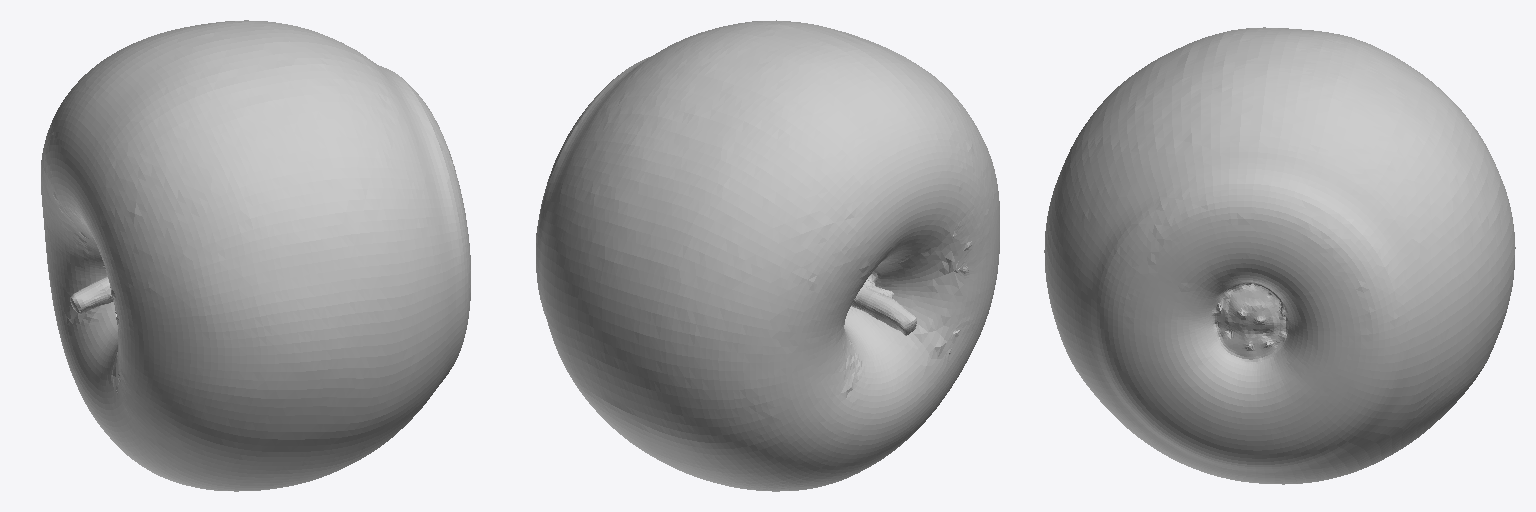
robot.urdf — single_object:
<?xml version="1.0" ?>
<robot name="single_object">
    <link name="base_link">
        <inertial>
            <origin xyz="0 0 0" rpy="0 0 0" />
            <mass value="1.0" />
            <inertia ixx="0.1" ixy="0" ixz="0" iyy="0.1" iyz="0" izz="0.1" />
        </inertial>
        <visual>
            <origin xyz="0 0 0" rpy="0 0 0" />
            <geometry>
                <mesh filename="visual/object_visual.obj" />
            </geometry>
            <material name="object_material">
                <color rgba="0.8 0.8 0.8 1.0" />
            </material>
        </visual>
        <collision name="collision_0">
            <origin xyz="0 0 0" rpy="0 0 0" />
            <geometry>
                <mesh filename="collision/object_0.obj" />
            </geometry>
        </collision>
        <collision name="collision_1">
            <origin xyz="0 0 0" rpy="0 0 0" />
            <geometry>
                <mesh filename="collision/object_1.obj" />
            </geometry>
        </collision>
        <collision name="collision_2">
            <origin xyz="0 0 0" rpy="0 0 0" />
            <geometry>
                <mesh filename="collision/object_2.obj" />
            </geometry>
        </collision>
        <collision name="collision_3">
            <origin xyz="0 0 0" rpy="0 0 0" />
            <geometry>
                <mesh filename="collision/object_3.obj" />
            </geometry>
        </collision>
        <collision name="collision_4">
            <origin xyz="0 0 0" rpy="0 0 0" />
            <geometry>
                <mesh filename="collision/object_4.obj" />
            </geometry>
        </collision>
        <collision name="collision_5">
            <origin xyz="0 0 0" rpy="0 0 0" />
            <geometry>
                <mesh filename="collision/object_5.obj" />
            </geometry>
        </collision>
        <collision name="collision_6">
            <origin xyz="0 0 0" rpy="0 0 0" />
            <geometry>
                <mesh filename="collision/object_6.obj" />
            </geometry>
        </collision>
        <collision name="collision_7">
            <origin xyz="0 0 0" rpy="0 0 0" />
            <geometry>
                <mesh filename="collision/object_7.obj" />
            </geometry>
        </collision>
        <collision name="collision_8">
            <origin xyz="0 0 0" rpy="0 0 0" />
            <geometry>
                <mesh filename="collision/object_8.obj" />
            </geometry>
        </collision>
        <collision name="collision_9">
            <origin xyz="0 0 0" rpy="0 0 0" />
            <geometry>
                <mesh filename="collision/object_9.obj" />
            </geometry>
        </collision>
        <collision name="collision_10">
            <origin xyz="0 0 0" rpy="0 0 0" />
            <geometry>
                <mesh filename="collision/object_10.obj" />
            </geometry>
        </collision>
        <collision name="collision_11">
            <origin xyz="0 0 0" rpy="0 0 0" />
            <geometry>
                <mesh filename="collision/object_11.obj" />
            </geometry>
        </collision>
        <collision name="collision_12">
            <origin xyz="0 0 0" rpy="0 0 0" />
            <geometry>
                <mesh filename="collision/object_12.obj" />
            </geometry>
        </collision>
        <collision name="collision_13">
            <origin xyz="0 0 0" rpy="0 0 0" />
            <geometry>
                <mesh filename="collision/object_13.obj" />
            </geometry>
        </collision>
        <collision name="collision_14">
            <origin xyz="0 0 0" rpy="0 0 0" />
            <geometry>
                <mesh filename="collision/object_14.obj" />
            </geometry>
        </collision>
        <collision name="collision_15">
            <origin xyz="0 0 0" rpy="0 0 0" />
            <geometry>
                <mesh filename="collision/object_15.obj" />
            </geometry>
        </collision>
        <collision name="collision_16">
            <origin xyz="0 0 0" rpy="0 0 0" />
            <geometry>
                <mesh filename="collision/object_16.obj" />
            </geometry>
        </collision>
        <collision name="collision_17">
            <origin xyz="0 0 0" rpy="0 0 0" />
            <geometry>
                <mesh filename="collision/object_17.obj" />
            </geometry>
        </collision>
        <collision name="collision_18">
            <origin xyz="0 0 0" rpy="0 0 0" />
            <geometry>
                <mesh filename="collision/object_18.obj" />
            </geometry>
        </collision>
        <collision name="collision_19">
            <origin xyz="0 0 0" rpy="0 0 0" />
            <geometry>
                <mesh filename="collision/object_19.obj" />
            </geometry>
        </collision>
    </link>
</robot>

--- Render facts (derived) ---
The picture shows the robot from 3 angles, left to right: view 1: azimuth 30°, elevation 25°; view 2: azimuth 150°, elevation 25°; view 3: azimuth 270°, elevation 25°; orthographic projection.
Model single_object with 1 links and 0 joints (none), rooted at base_link, posed all joints at 0.
Visible links, largest first — view 1: base_link; view 2: base_link; view 3: base_link.
Boxes of the visible links, x1,y1,x2,y2 form: base_link: [41, 20, 470, 491]; base_link: [536, 20, 999, 491]; base_link: [1044, 27, 1515, 484].
Bounding box of the posed robot: 0.2151 × 0.2577 × 0.2488 m (x, y, z).
Meshes: 1 distinct files referenced, 1 mesh visuals loaded (1 OBJ).